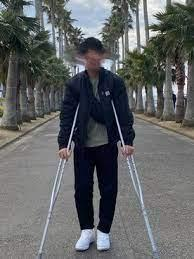crutches: (35, 37, 160, 259)
